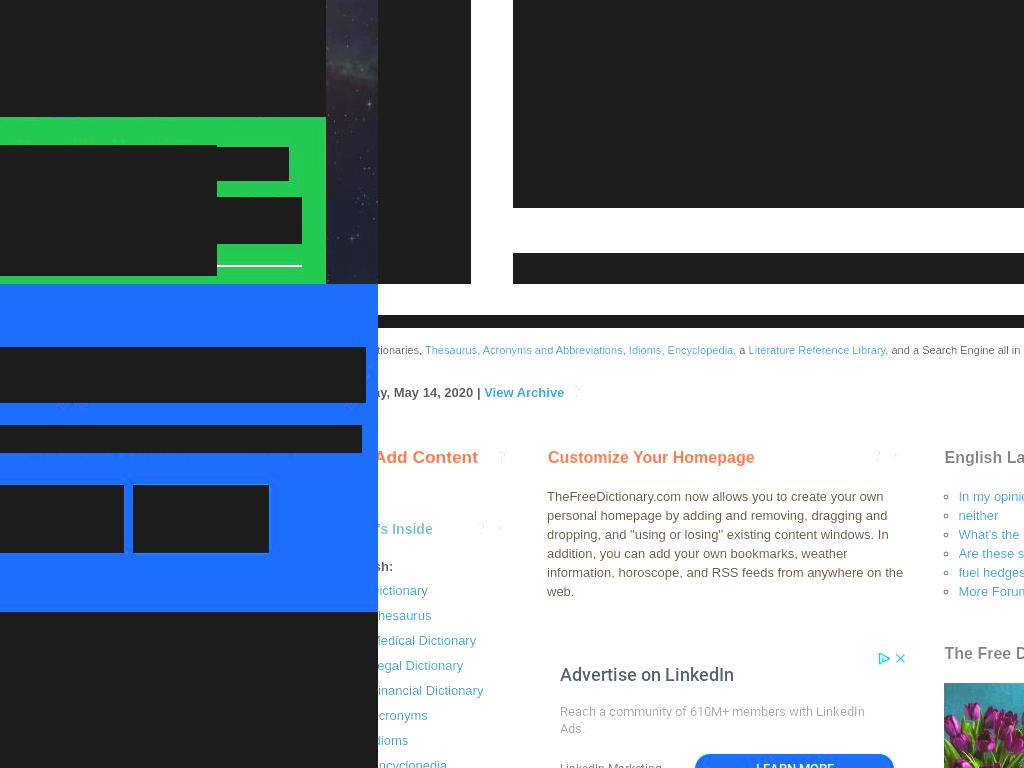button: (133, 485, 269, 553), (378, 144, 471, 178), (378, 177, 471, 211), (378, 210, 471, 244), (378, 243, 471, 277), (203, 147, 289, 181), (378, 24, 471, 55), (378, 54, 471, 85), (378, 84, 471, 115), (378, 114, 471, 145), (378, 0, 471, 25)
field: (0, 485, 124, 553)
heading: (0, 145, 217, 276), (513, 253, 1024, 284), (0, 197, 302, 244), (0, 425, 362, 453), (548, 448, 755, 467), (261, 691, 359, 714), (378, 315, 532, 328), (482, 343, 623, 356), (129, 691, 208, 714), (885, 343, 1024, 356), (748, 343, 885, 356), (944, 448, 1024, 467), (944, 644, 1024, 663), (378, 520, 433, 537), (667, 343, 733, 356), (788, 315, 845, 328), (886, 315, 939, 328), (424, 343, 477, 356), (378, 343, 426, 356), (261, 762, 359, 768), (742, 315, 784, 328), (620, 315, 661, 328), (574, 315, 614, 328), (531, 315, 568, 328), (666, 315, 702, 328), (628, 343, 661, 356), (129, 762, 200, 768), (981, 315, 1013, 328), (945, 315, 976, 328), (706, 315, 736, 328), (851, 315, 880, 328), (733, 343, 750, 356), (845, 315, 853, 328), (880, 315, 888, 328), (939, 315, 947, 328), (1012, 315, 1020, 328), (661, 343, 669, 356), (567, 315, 574, 328), (613, 315, 620, 328), (659, 315, 666, 328), (700, 315, 707, 328), (736, 315, 743, 328), (782, 315, 789, 328), (477, 343, 484, 356), (622, 343, 629, 356), (975, 315, 981, 328)
iframe: (549, 649, 909, 768), (943, 600, 1024, 751)
image: (513, 0, 1024, 208), (0, 612, 378, 768)
label: (261, 629, 312, 651), (129, 629, 162, 651), (361, 629, 378, 651)
link: (378, 682, 483, 698), (378, 632, 476, 648), (378, 657, 463, 673), (484, 384, 565, 400), (958, 488, 1024, 504), (958, 526, 1024, 542), (958, 545, 1024, 561), (958, 564, 1024, 580), (958, 583, 1024, 599), (378, 607, 431, 623), (378, 582, 428, 598), (378, 707, 428, 723), (378, 757, 447, 768), (958, 507, 999, 523), (378, 732, 408, 748), (495, 518, 506, 538), (891, 445, 902, 465), (572, 381, 581, 401), (498, 447, 507, 467), (477, 518, 485, 538), (873, 445, 881, 465)
text: (547, 486, 907, 601), (0, 0, 326, 117), (0, 347, 366, 403), (378, 439, 488, 476), (378, 556, 511, 576), (378, 384, 484, 400), (158, 510, 244, 528), (378, 148, 423, 164)
